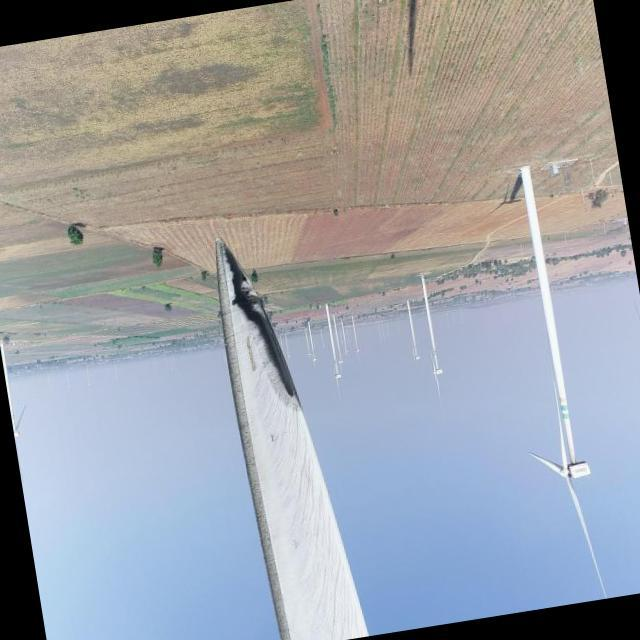Dirt: (220, 241, 372, 640)
Oil LEAKAGE: (220, 239, 303, 397)
Pin Hole: (229, 296, 240, 308)
